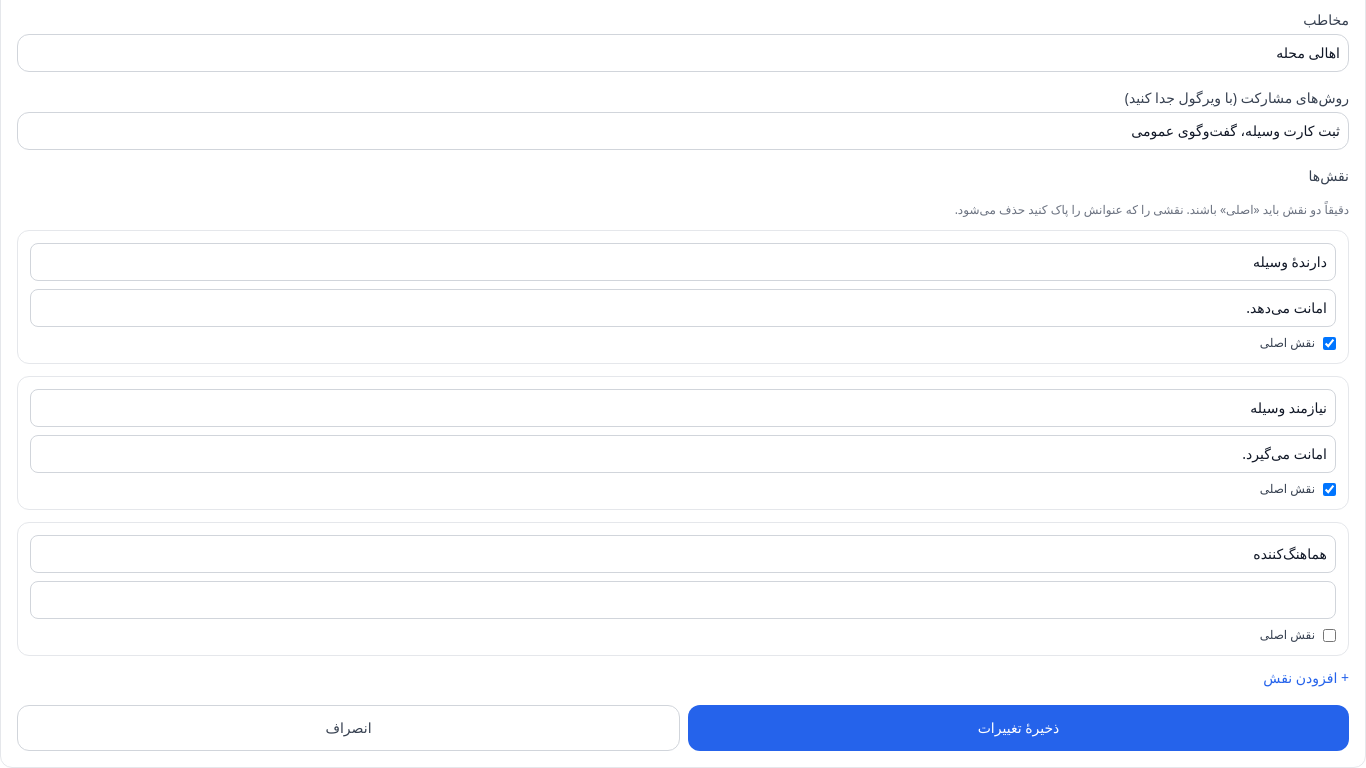
SpaceEditForm › adds a role with a key that is not already taken
The width and height of the screenshot is (1366, 768).
(page scrolled)
Click the button "+ افزودن نقش" at (1306, 678), box [1263,668,1349,688]
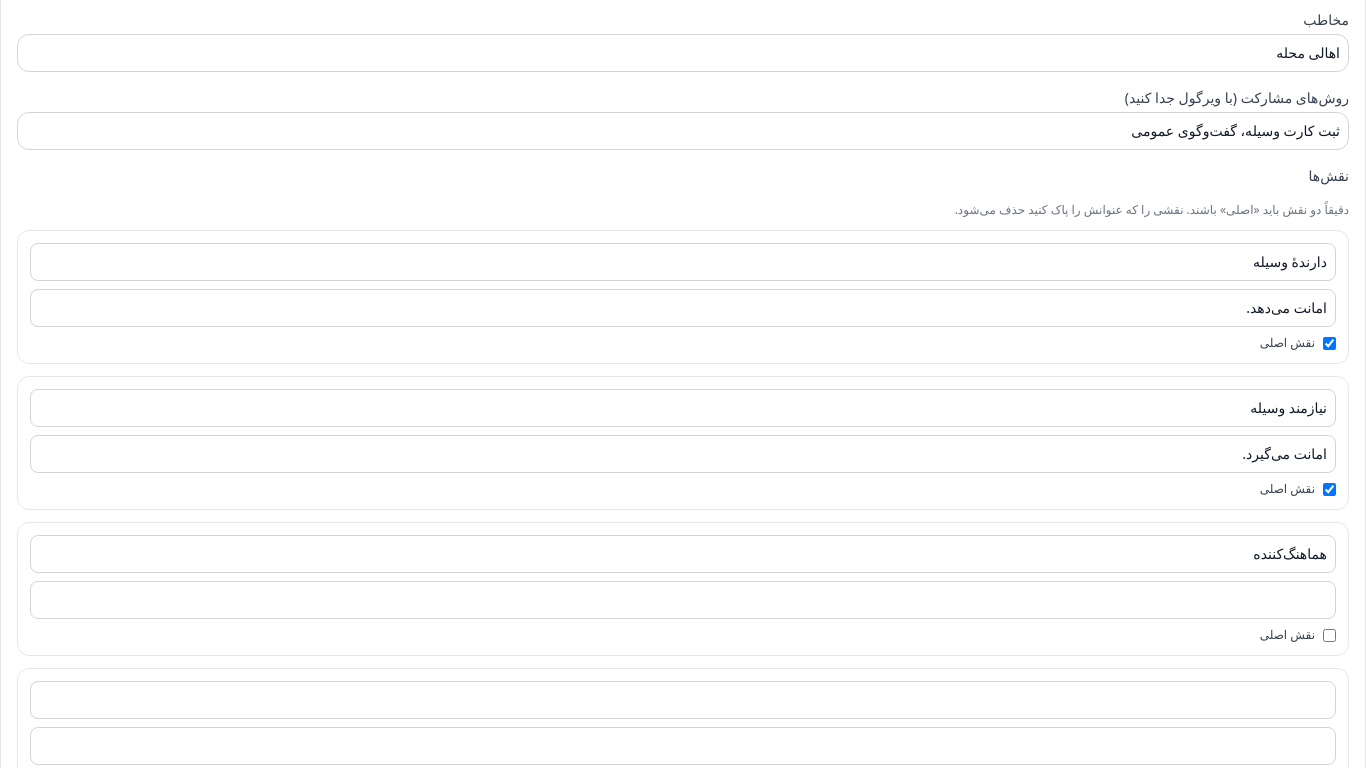
expect the field named "عنوان نقش 4" is shown: met, box [30,681,1336,719]
